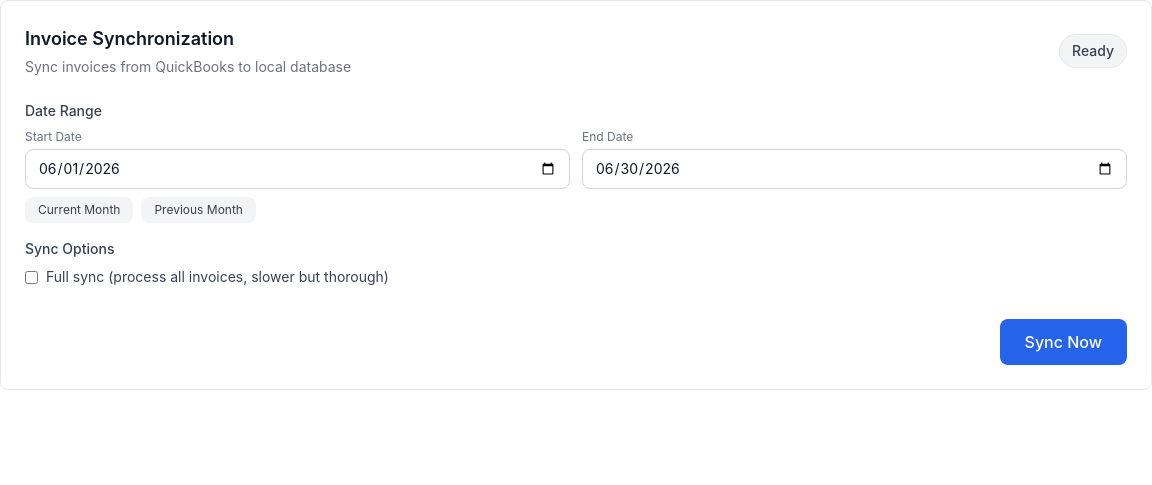
Scenario: QuickBooksSyncPanel - Status Display › should show progress indicator during sync
Click the button "Sync Now": (1063, 342) [1000,319,1127,365]
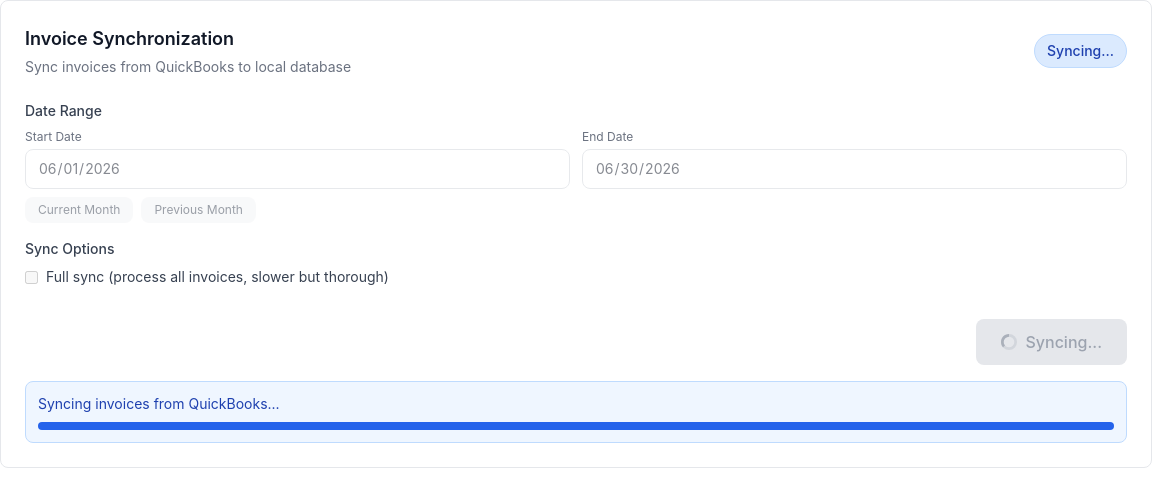
Result: the text "Syncing invoices from QuickBooks..." is shown at [38,395,280,412]
